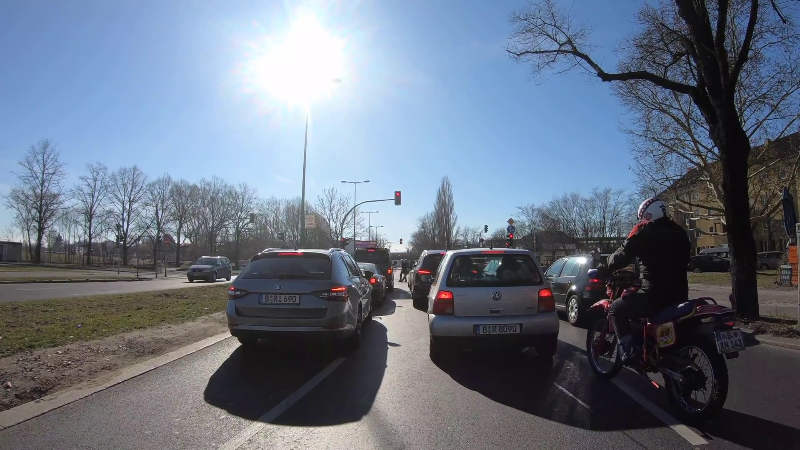Plate: (255, 291, 303, 307), (471, 322, 522, 336)
